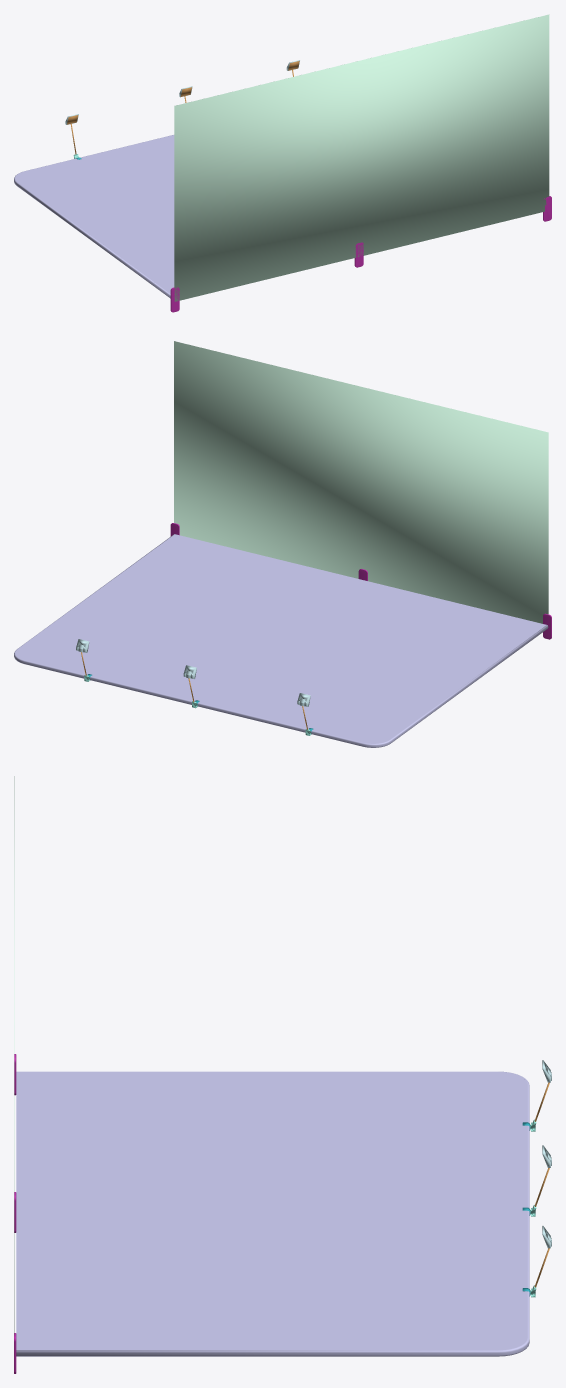
Rendered from Booth1.glb.
The picture shows the model from 3 angles, top to bottom: view 1: azimuth 30°, elevation 25°; view 2: azimuth 150°, elevation 25°; view 3: azimuth 270°, elevation 25°; orthographic projection. The views are drawn at different scales.
Parts seen in each view (by area): view 1: 3DM007_floor_carpet, 3DM007_straight_wall_front, 3DM007_straight_wall_border; view 2: 3DM007_floor_carpet, 3DM007_straight_wall_front, 3DM007_straight_wall_border; view 3: 3DM007_straight_wall_front, 3DM007_straight_wall_border.
Part boxes in pixels (bbox=[...]): 3DM007_floor_carpet: bbox=[174, 14, 549, 301]; 3DM007_straight_wall_front: bbox=[15, 135, 174, 293]; 3DM007_straight_wall_border: bbox=[14, 135, 172, 298]; 3DM007_floor_carpet: bbox=[174, 341, 548, 623]; 3DM007_straight_wall_front: bbox=[15, 534, 546, 743]; 3DM007_straight_wall_border: bbox=[14, 534, 548, 747]; 3DM007_straight_wall_front: bbox=[16, 1071, 527, 1350]; 3DM007_straight_wall_border: bbox=[16, 1071, 529, 1356].
Bounding box in the file's own units: 0.122 × 0.0631 × 0.0972.
